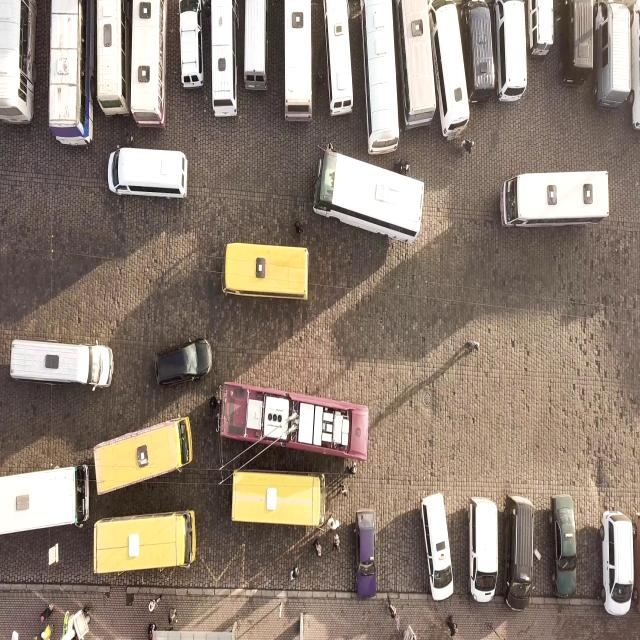Bus: (214, 375, 375, 466), (312, 144, 427, 250), (92, 411, 197, 511), (43, 0, 101, 154), (91, 503, 201, 579), (496, 168, 614, 237), (356, 0, 404, 157), (7, 336, 117, 398), (219, 237, 311, 306), (0, 460, 89, 531), (228, 475, 328, 531), (129, 0, 171, 126), (0, 0, 41, 128), (91, 0, 132, 126), (278, 0, 316, 122), (204, 0, 241, 124), (320, 0, 355, 122), (242, 0, 272, 97)
Car: (549, 488, 580, 604), (151, 338, 215, 392), (352, 504, 378, 606)
Van: (420, 0, 471, 144), (590, 0, 634, 107), (597, 502, 636, 621), (417, 490, 456, 606), (458, 0, 498, 107), (502, 486, 535, 615), (106, 148, 192, 196), (494, 0, 530, 107), (468, 490, 500, 606), (556, 0, 592, 92), (178, 0, 205, 92), (527, 0, 556, 67)
